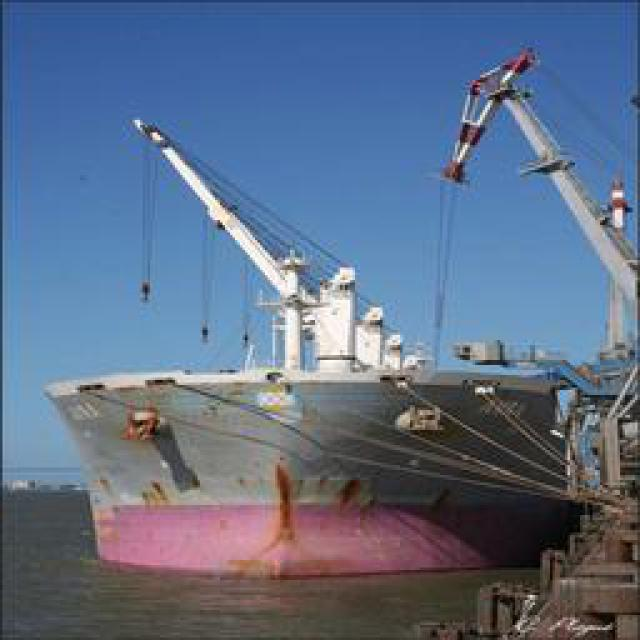Ship: (37, 211, 605, 571)
